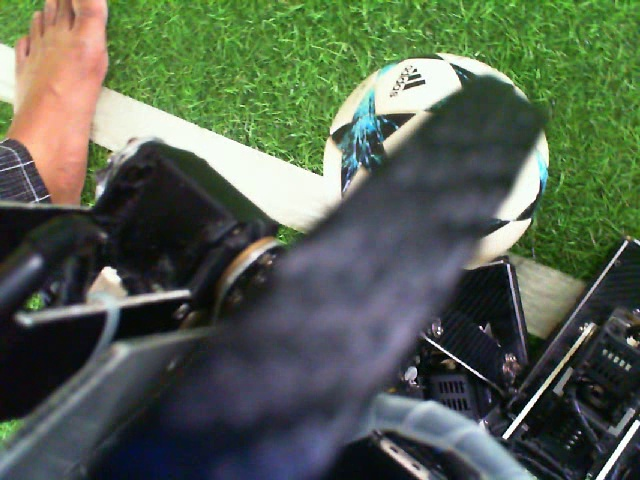ball: (321, 44, 479, 217)
